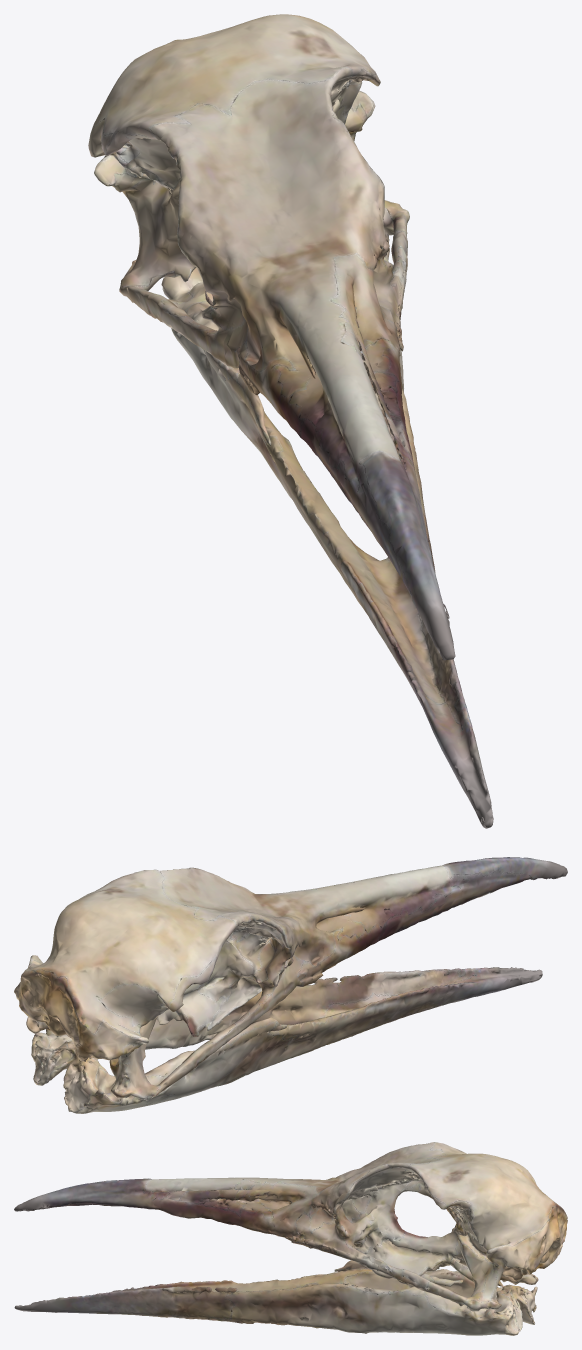
Rendered from martinete.glb.
3 renders of one model, top to bottom at view 1: azimuth 30°, elevation 25°; view 2: azimuth 150°, elevation 25°; view 3: azimuth 270°, elevation 25°, orthographic. The views are drawn at different scales.
Parts seen in each view (by area): view 1: Object_2; view 2: Object_2; view 3: Object_2.
Boxes of the visible parts, x1,y1,x2,y2 form: Object_2: [88, 14, 493, 828]; Object_2: [14, 857, 567, 1113]; Object_2: [14, 1142, 567, 1335].
Size of the model in its own units: 0.9413 by 0.8814 by 2.17.
Materials: 1 (1 with a texture image).
